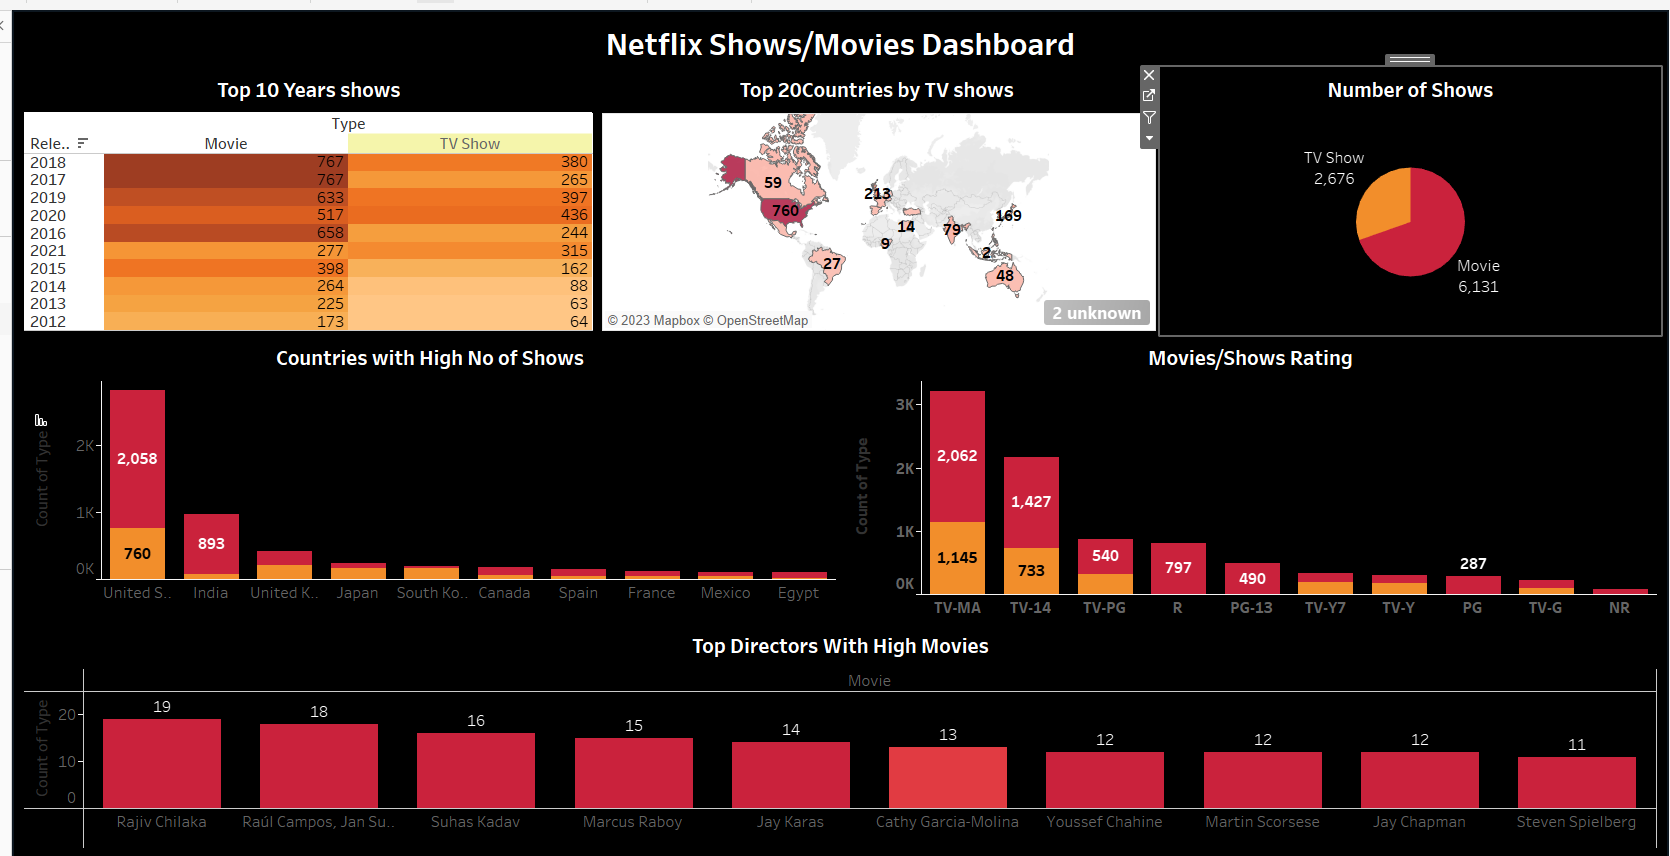

This screenshot's page, from the dashboard's own definition file:
{"tool":"tableau","page":{"name":"Netflix Shows/Movies Dashboard","canvas":[1000,1000],"units":"permille","ordinal":0},"visuals":[{"type":"title","box":[4.8,9.4,990.3,57.6]},{"type":"worksheet","title":"Top 10 Years shows","mark":"Square","rows":["release_year"],"cols":["type"],"box":[4.8,67,348.8,315.3]},{"type":"worksheet","title":"Top 20Countries by TV shows ","mark":"Automatic","box":[353.6,67,339.2,315.3]},{"type":"worksheet","title":"Number of Shows","mark":"Pie","box":[692.8,67,302.4,315.3]},{"type":"worksheet","title":"Countries with High No of Shows","mark":"Automatic","rows":["type"],"cols":["country"],"box":[4.8,382.3,495,338.4]},{"type":"worksheet","title":"Movies/Shows Rating","mark":"Automatic","rows":["type"],"cols":["rating"],"box":[499.8,382.3,495.4,338.4]},{"type":"worksheet","title":"Top Directors With High Movies","mark":"Automatic","rows":["type"],"cols":["type","director"],"box":[4.8,720.7,990.3,269.9]}]}

Visuals, with their boxes on the dashboard's canvas, which has no fixed pixel size, in thousandths of its width and height (x1, y1, x2, y2). These are canvas units, not pixel positions in the 1670x856 screenshot, which may show the page scaled, cropped or inside an application window:
title: crop(5, 9, 995, 67)
"Top 10 Years shows" worksheet (Square marks): crop(5, 67, 354, 382)
"Top 20Countries by TV shows " worksheet: crop(354, 67, 693, 382)
"Number of Shows" worksheet (Pie marks): crop(693, 67, 995, 382)
"Countries with High No of Shows" worksheet: crop(5, 382, 500, 721)
"Movies/Shows Rating" worksheet: crop(500, 382, 995, 721)
"Top Directors With High Movies" worksheet: crop(5, 721, 995, 991)
